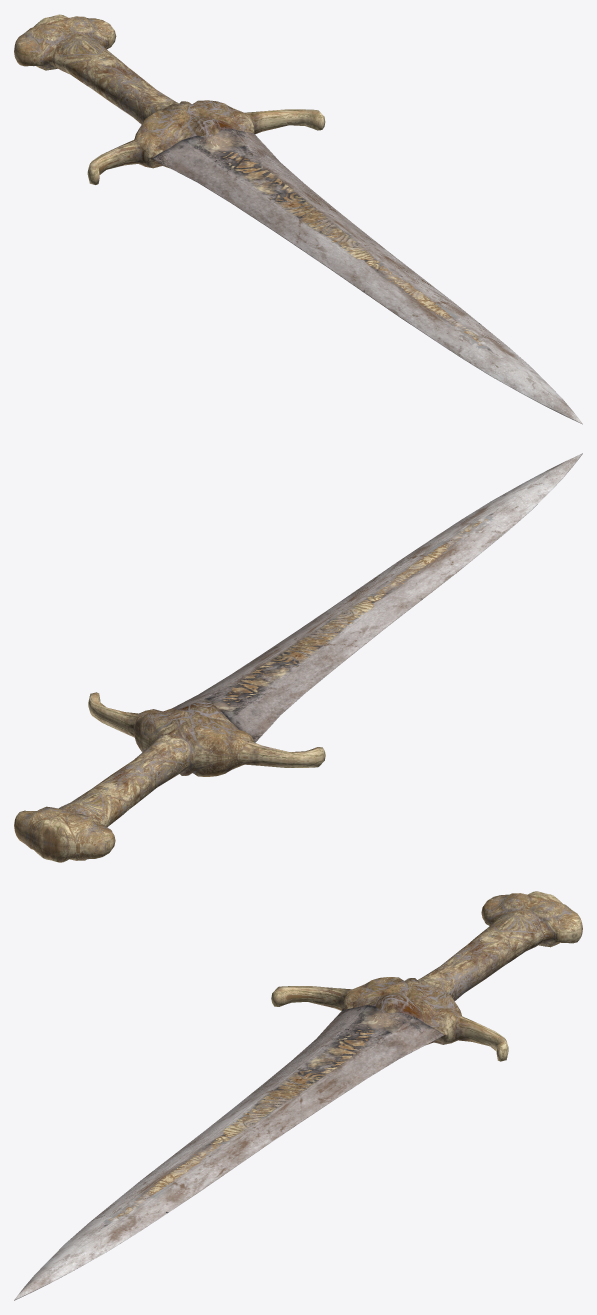
Rendered from weatheredstraightsword.fbx.
The picture shows the model from 3 angles, top to bottom: view 1: azimuth 30°, elevation 25°; view 2: azimuth 150°, elevation 25°; view 3: azimuth 330°, elevation 25°; orthographic projection.
Visible parts, largest first — view 1: WP_A_0214; view 2: WP_A_0214; view 3: WP_A_0214.
Part boxes in pixels (x1=…): WP_A_0214: x1=14, y1=14, x2=582, y2=424; WP_A_0214: x1=14, y1=453, x2=582, y2=862; WP_A_0214: x1=14, y1=891, x2=582, y2=1300.
Bounding box in the file's own units: 21.48 × 4.87 × 85.05.
1 material, 1 textured.
